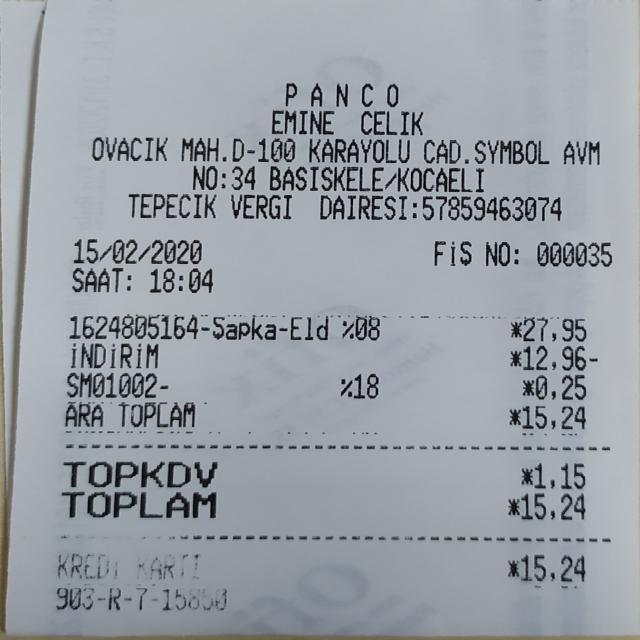text: (61, 488, 215, 520), (271, 75, 409, 110), (62, 458, 217, 488), (422, 192, 560, 223), (424, 136, 548, 166), (72, 236, 200, 264), (270, 163, 382, 193), (69, 313, 200, 337), (308, 135, 408, 165), (67, 371, 168, 398), (320, 192, 406, 222), (397, 164, 483, 193), (129, 191, 215, 220), (70, 342, 160, 368), (92, 133, 167, 163), (139, 585, 225, 611), (538, 239, 612, 268), (120, 399, 193, 427), (524, 343, 596, 371), (519, 552, 586, 582), (132, 552, 201, 581), (230, 191, 292, 221), (150, 264, 212, 294), (54, 552, 120, 580), (182, 134, 243, 164), (271, 107, 333, 136), (526, 490, 584, 521), (523, 403, 586, 431), (360, 108, 422, 136), (71, 264, 125, 294), (528, 316, 586, 343), (214, 315, 276, 339), (534, 373, 586, 400), (532, 462, 586, 488), (258, 134, 294, 164), (434, 238, 470, 268), (54, 585, 96, 610), (67, 400, 105, 427), (564, 137, 598, 166), (294, 313, 330, 337), (192, 163, 216, 191), (231, 163, 254, 192), (486, 238, 508, 268), (354, 373, 380, 398), (354, 316, 380, 340), (507, 316, 521, 343), (118, 264, 130, 294), (384, 164, 396, 192), (276, 313, 289, 337), (340, 318, 354, 340), (336, 378, 352, 396), (505, 558, 520, 576), (202, 313, 213, 337), (506, 497, 519, 516), (99, 585, 108, 610), (110, 585, 119, 610), (518, 468, 534, 482), (126, 586, 135, 610), (507, 350, 521, 364), (508, 408, 520, 424), (521, 380, 534, 394), (247, 134, 253, 164), (514, 239, 518, 268), (413, 193, 415, 222), (222, 163, 224, 191)
